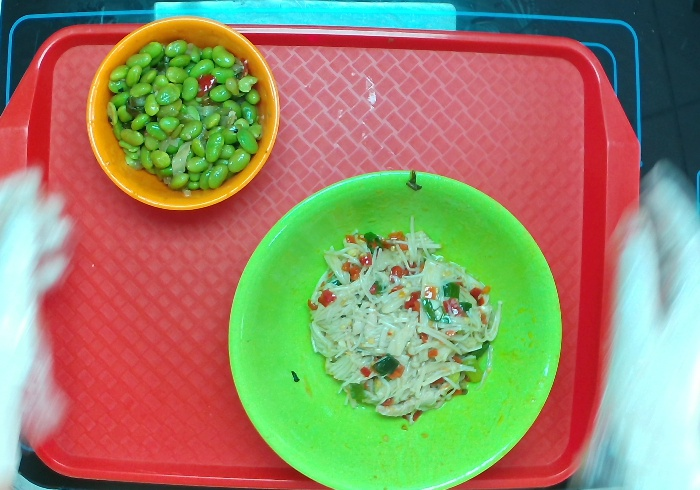YKMZ-Ju_Se_Yuan_Wan: (80, 14, 284, 218)
YKMZ-Lv_Se_Tang_Wan: (215, 159, 574, 490)
